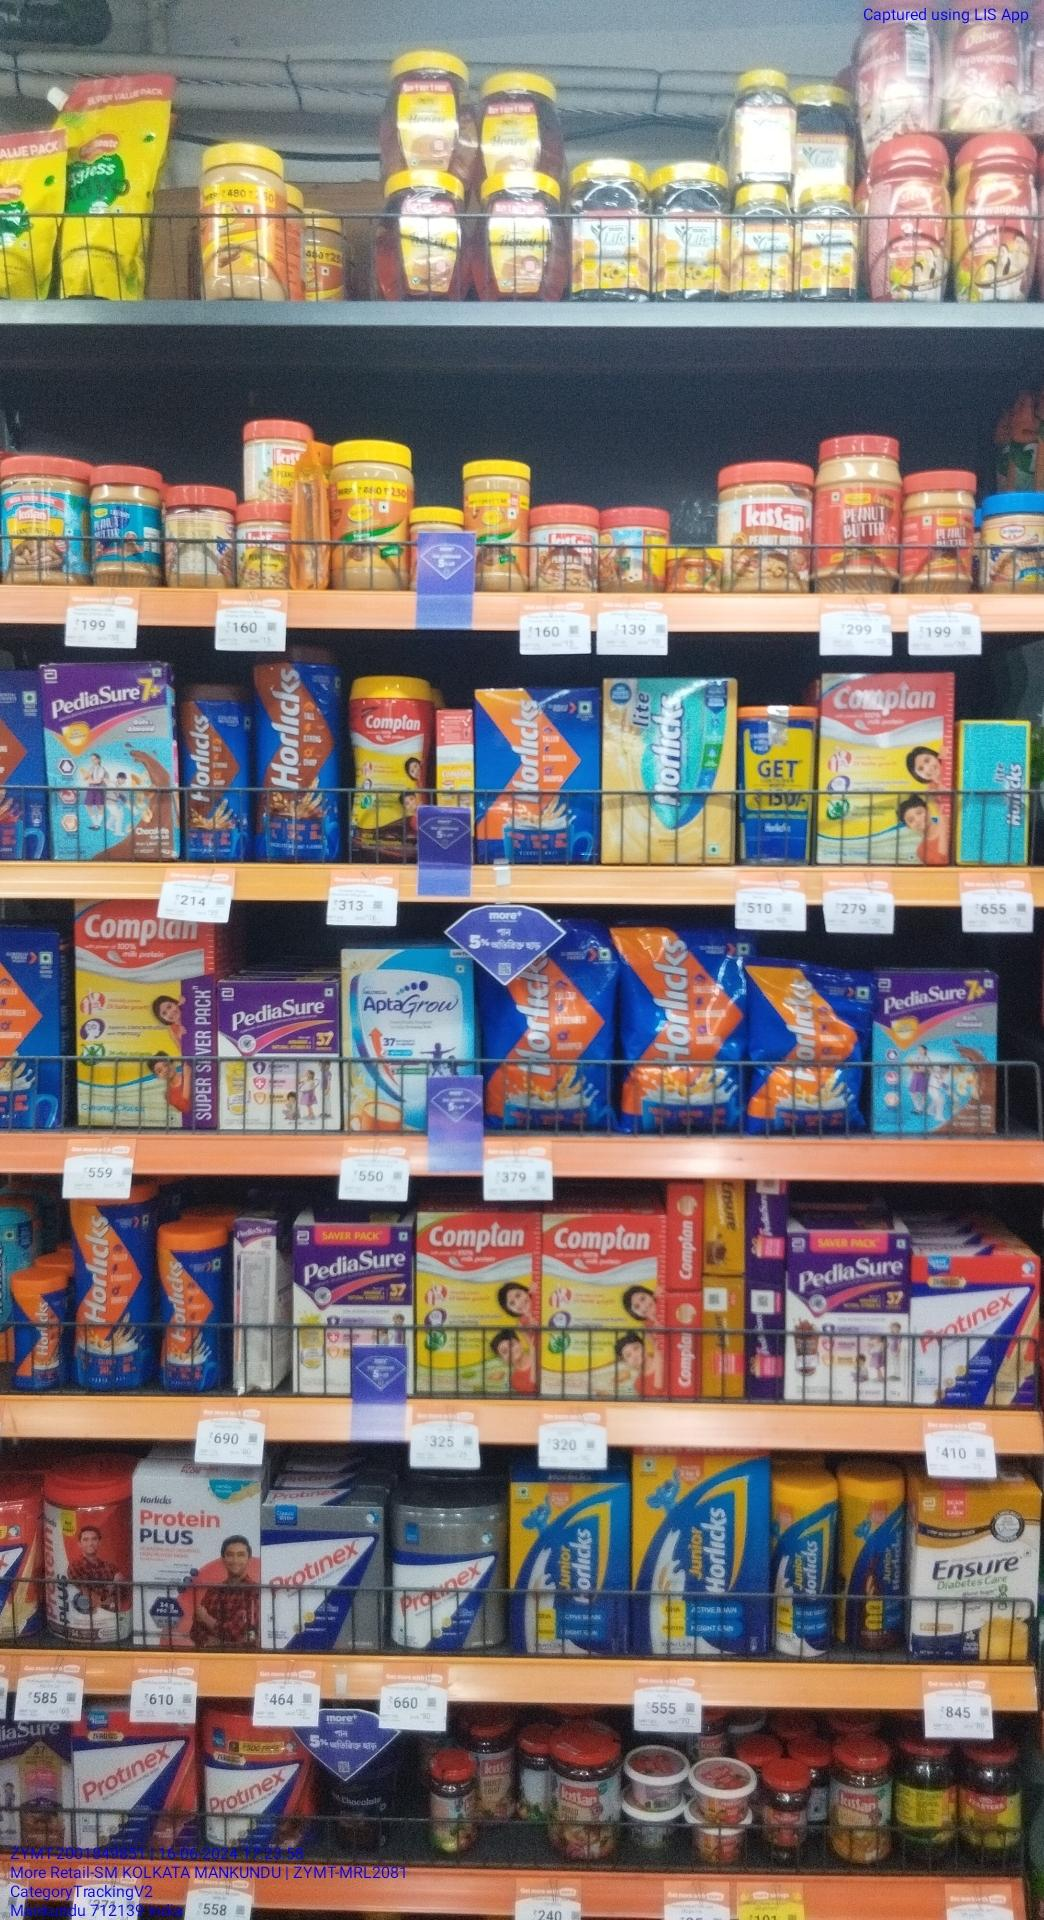COMPLAN_CREAMY_CLASSIC_500_G_PACK: (822, 673, 950, 866)
HORLICK_CLASSIC_MALT_500_G_PACK: (477, 690, 599, 861)
